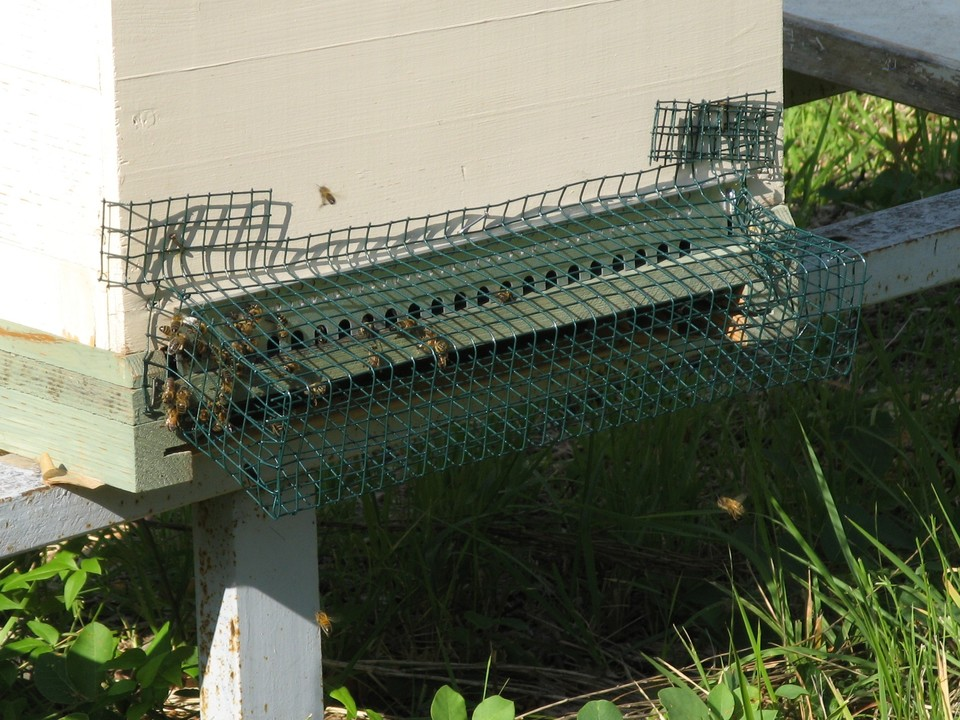bee: (160, 379, 177, 407), (317, 184, 334, 205), (177, 393, 191, 418), (168, 336, 188, 353)
